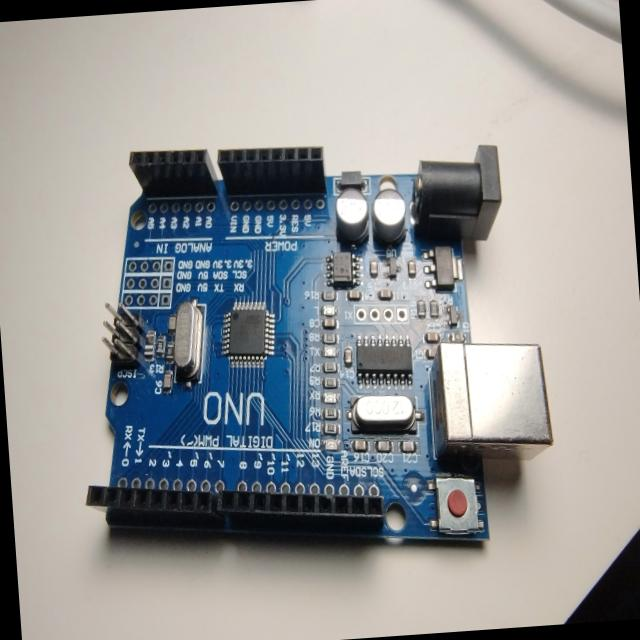arduino: (72, 105, 566, 576)
